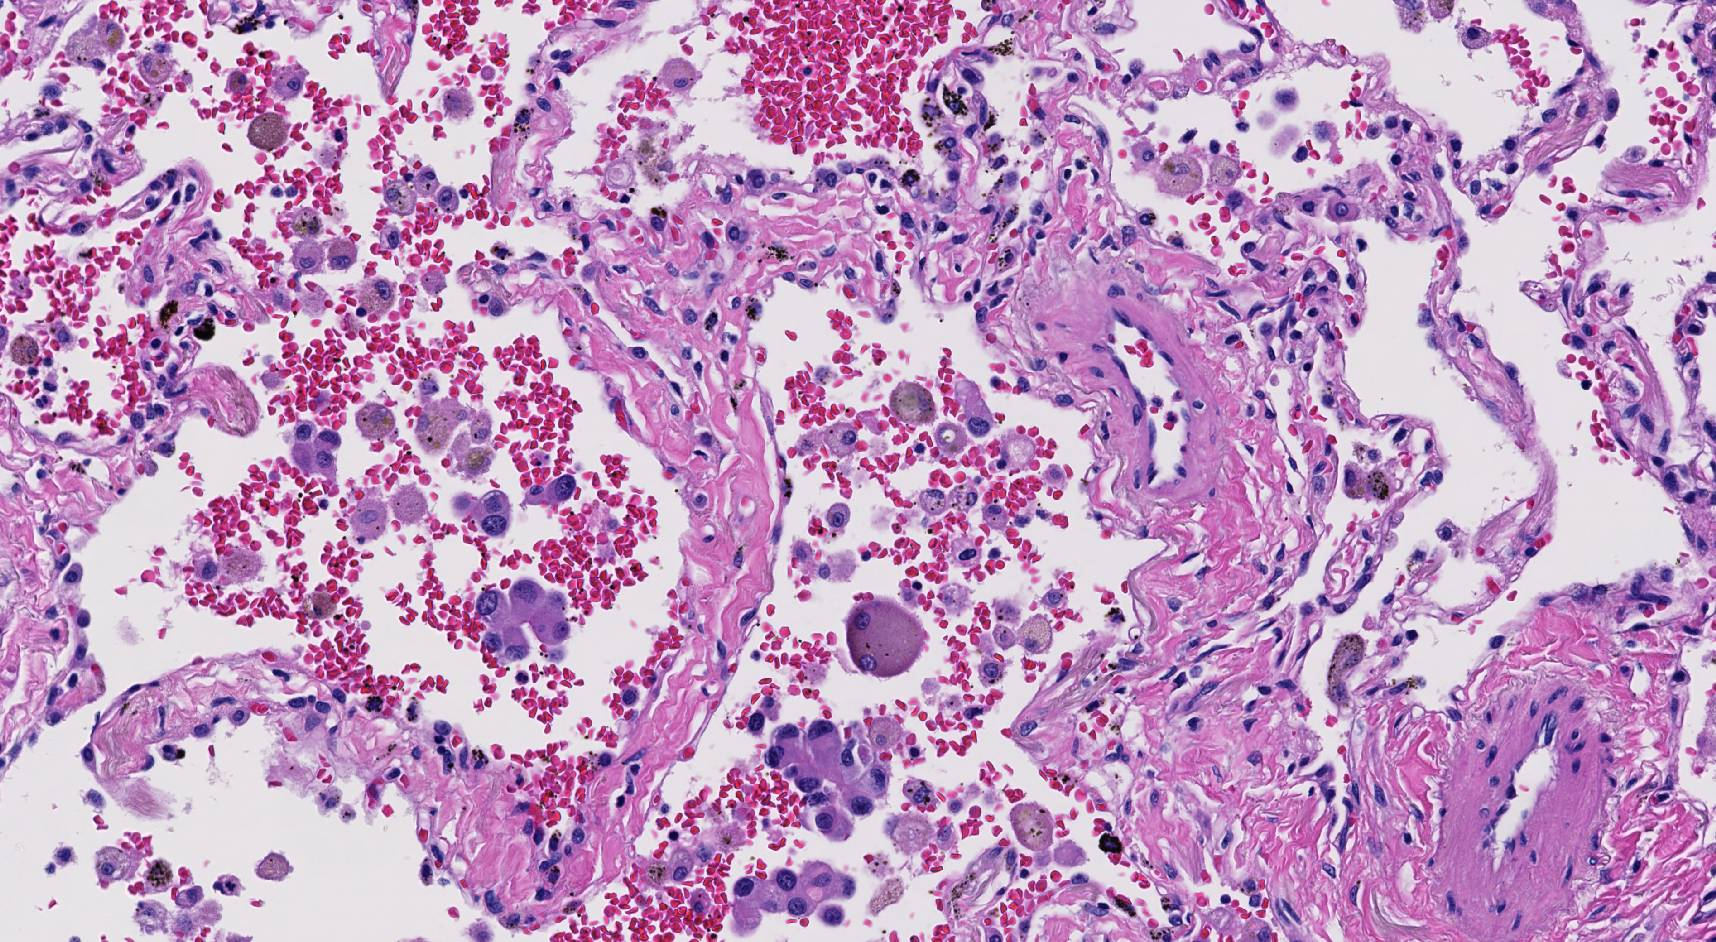stas: (765, 715, 889, 845), (727, 862, 860, 931), (477, 578, 572, 665), (291, 423, 343, 480), (456, 488, 514, 535), (523, 476, 580, 507)
